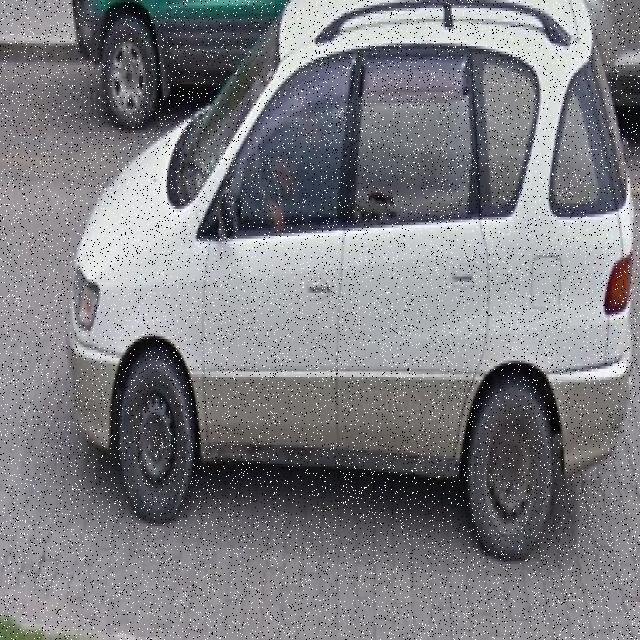cars: (67, 0, 636, 551)
